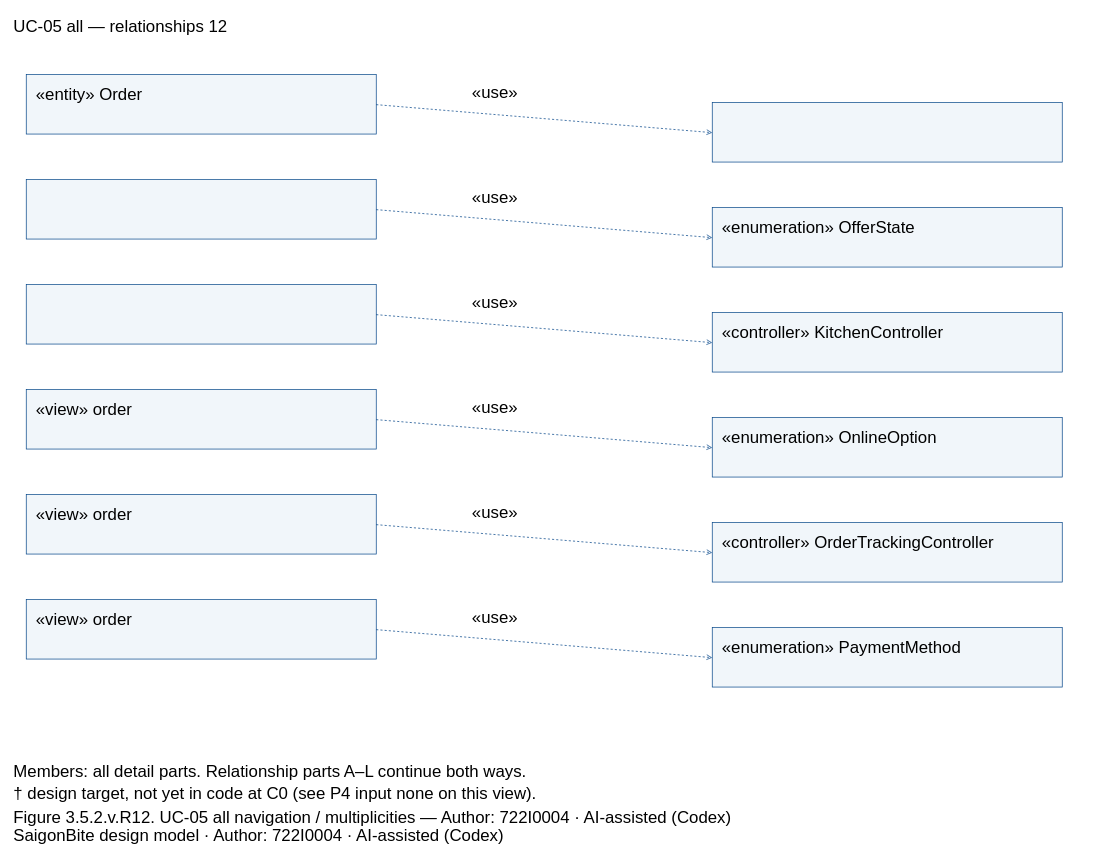
The diagram is 1095 pixels wide and 858 high, and some of its shapes have lost their labels. Here are the shapes that lost their labels. From the top down, the centre of each, then its label:
At pixel 887 132: "«enumeration» OrderState".
At pixel 201 209: "«entity» ReplacementOffer".
At pixel 201 314: "«view» kitchen".
